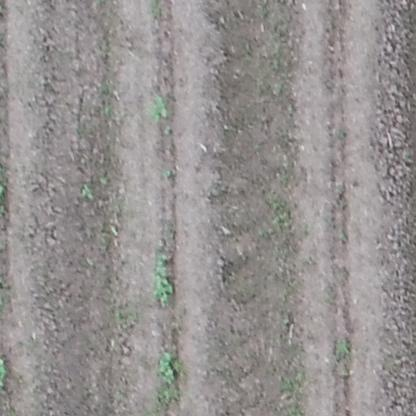vc: (152, 251, 177, 309), (155, 351, 178, 388), (150, 96, 168, 122), (81, 182, 95, 199)
